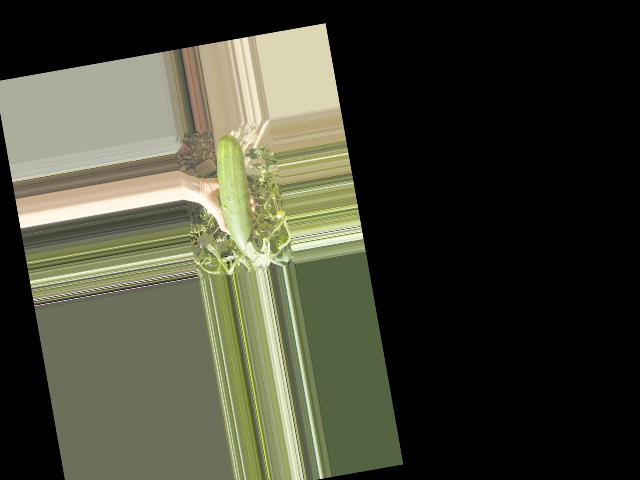cucumber: (209, 132, 260, 258)
